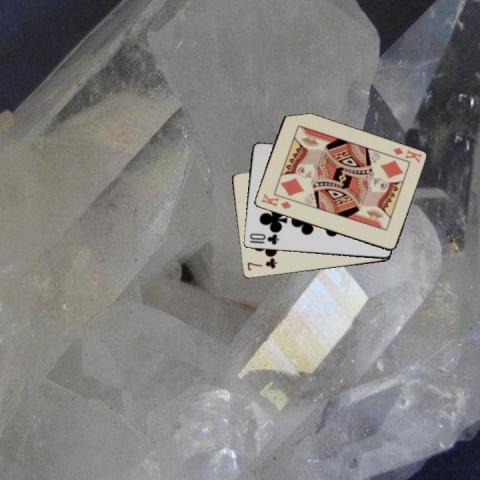10c: (247, 230, 280, 246)
7c: (244, 257, 279, 272)
Kd: (258, 191, 292, 210), (389, 145, 423, 164)
